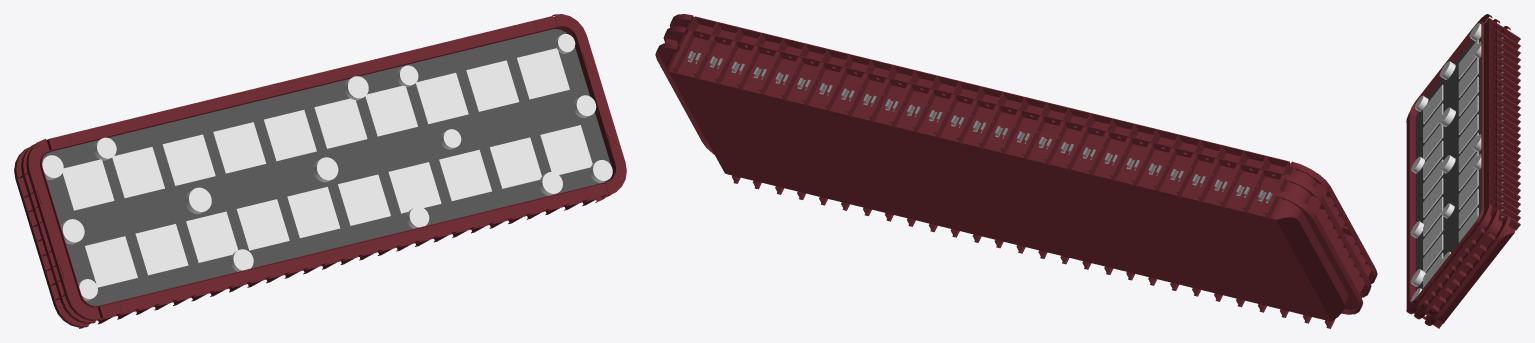
Rendered from potline.glb.
3 renders of one model, left to right at view 1: azimuth 30°, elevation 25°; view 2: azimuth 150°, elevation 25°; view 3: azimuth 270°, elevation 25°, orthographic. The views are drawn at different scales.
Parts seen in each view (by area): view 1: Cube, PartBody.042, Cube.002, Cube.001, Circle.004, Circle.010, Circle, Circle.013, Circle.002; view 2: PartBody.042, s35; view 3: PartBody.042, Cube, Cube.001, Cube.002, Circle.004, Circle, Circle.010, Circle.002, Circle.012, s35, Circle.011, Circle.005 (+5 smaller).
Part boxes in pixels (x1=…): Cube: x1=43, y1=29, x2=610, y2=305; PartBody.042: x1=14, y1=14, x2=626, y2=328; Cube.002: x1=62, y1=48, x2=569, y2=210; Cube.001: x1=84, y1=125, x2=592, y2=287; Circle.004: x1=185, y1=187, x2=211, y2=213; Circle.010: x1=313, y1=157, x2=338, y2=182; Circle: x1=60, y1=219, x2=84, y2=244; Circle.013: x1=344, y1=76, x2=368, y2=100; Circle.002: x1=538, y1=172, x2=562, y2=195; PartBody.042: x1=655, y1=14, x2=1377, y2=328; s35: x1=687, y1=51, x2=1272, y2=202; PartBody.042: x1=1406, y1=14, x2=1520, y2=328; Cube: x1=1415, y1=37, x2=1481, y2=290; Cube.001: x1=1423, y1=84, x2=1443, y2=288; Cube.002: x1=1458, y1=39, x2=1478, y2=242; Circle.004: x1=1439, y1=107, x2=1455, y2=126; Circle: x1=1439, y1=61, x2=1455, y2=79; Circle.010: x1=1440, y1=155, x2=1455, y2=173; Circle.002: x1=1410, y1=269, x2=1425, y2=286; Circle.012: x1=1469, y1=23, x2=1481, y2=41; s35: x1=1501, y1=37, x2=1503, y2=217; Circle.011: x1=1410, y1=221, x2=1423, y2=238; Circle.005: x1=1411, y1=156, x2=1424, y2=173.
Bounding box in the file's own units: 22.84 × 6.52 × 5.38.
